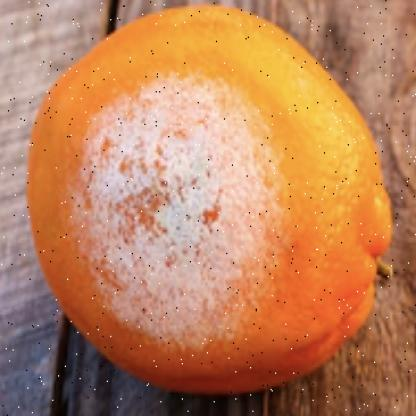rotten: (28, 9, 397, 396)
